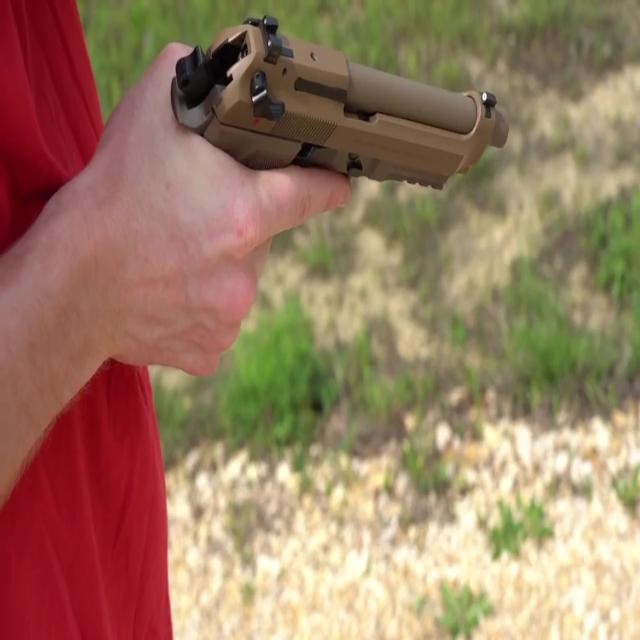Weapon: (155, 0, 567, 302)
